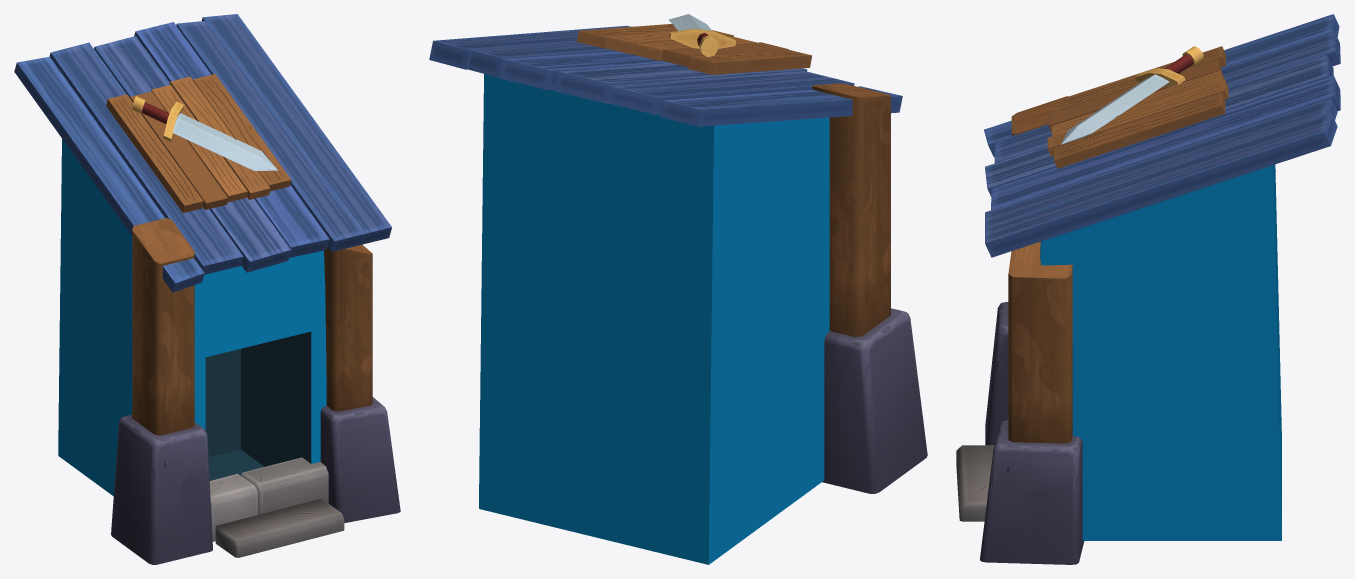
Rendered from barracks.fbx.
3 views of the same model, side by side, from view 1: azimuth 30°, elevation 25°; view 2: azimuth 150°, elevation 25°; view 3: azimuth 270°, elevation 25° (orthographic). The views are drawn at different scales.
Visible parts, largest first — view 1: barracks; view 2: barracks; view 3: barracks.
Boxes of the visible parts, x1,y1,x2,y2 form: barracks: (14, 14, 400, 564); barracks: (429, 14, 927, 564); barracks: (956, 14, 1340, 564).
Bounding box in the file's own units: 137 × 202 × 164.
3 materials, 1 textured.
